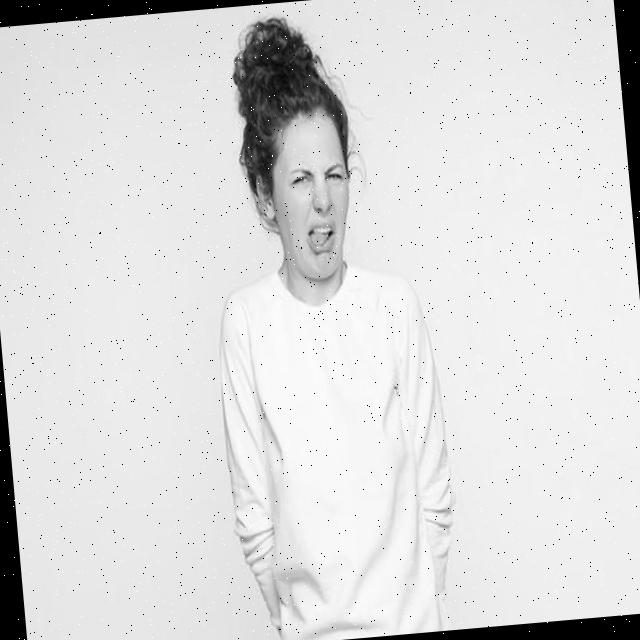Disgust: (264, 105, 356, 284)
